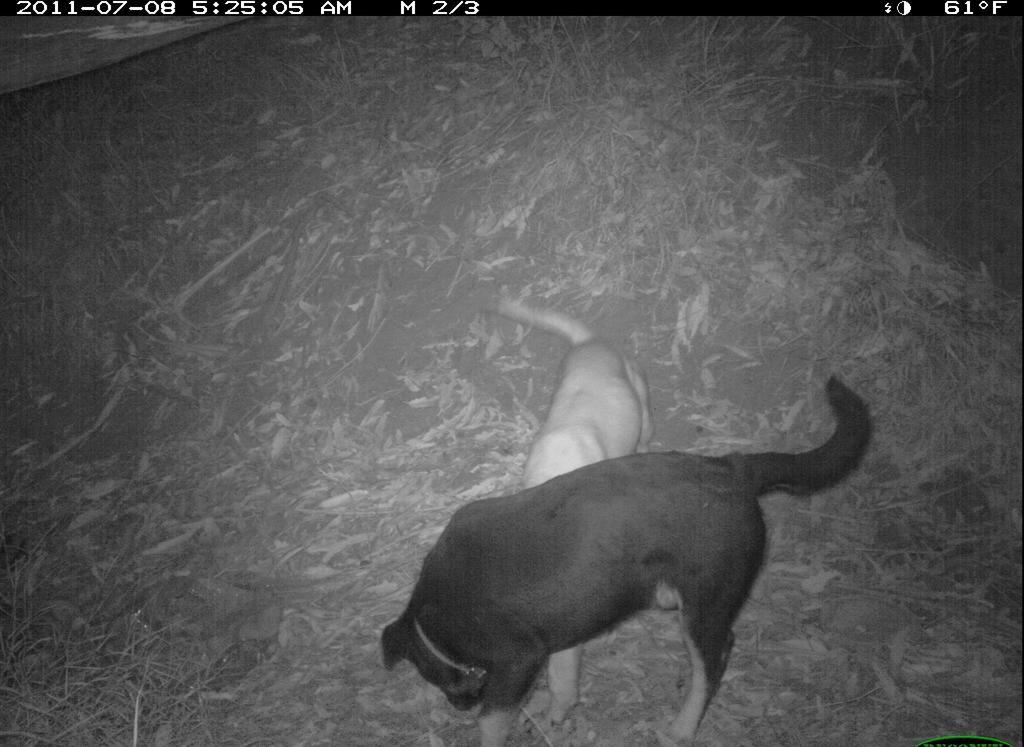dog: (377, 373, 871, 743), (489, 291, 657, 728)
